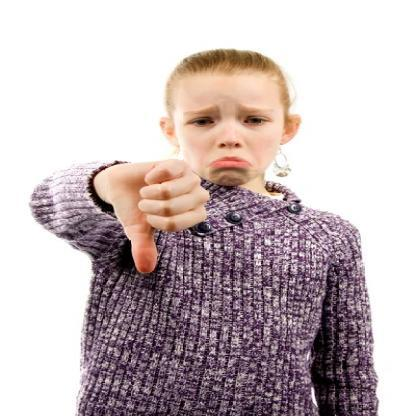thumb_down: (104, 155, 224, 278)
